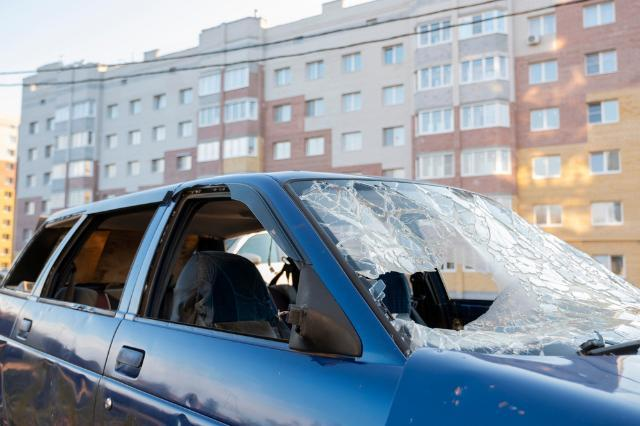dent: (183, 394, 199, 409), (174, 413, 187, 426)
glass shatter: (285, 179, 640, 359)
no part: (131, 180, 238, 319), (244, 303, 306, 335)
